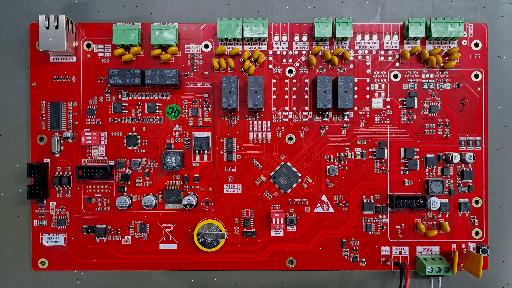var: (462, 249, 484, 278), (452, 249, 458, 274), (439, 221, 450, 233), (445, 46, 459, 54), (427, 55, 436, 67), (420, 49, 429, 61), (167, 46, 179, 55), (401, 49, 410, 61), (448, 53, 461, 61), (129, 47, 142, 55), (410, 45, 421, 54), (311, 46, 322, 55), (416, 222, 425, 233), (442, 61, 456, 68), (331, 47, 343, 55), (114, 48, 126, 56), (160, 54, 172, 62), (330, 55, 338, 67), (252, 49, 260, 61), (435, 55, 443, 67), (151, 49, 162, 57), (243, 60, 251, 71), (323, 50, 331, 61), (257, 53, 265, 64), (247, 65, 255, 76), (215, 46, 226, 54), (122, 54, 134, 61), (429, 48, 441, 55), (309, 55, 316, 67), (219, 58, 226, 70), (212, 58, 219, 70), (243, 50, 250, 61), (343, 50, 350, 61), (227, 58, 234, 69), (229, 48, 240, 55), (427, 230, 438, 237)
